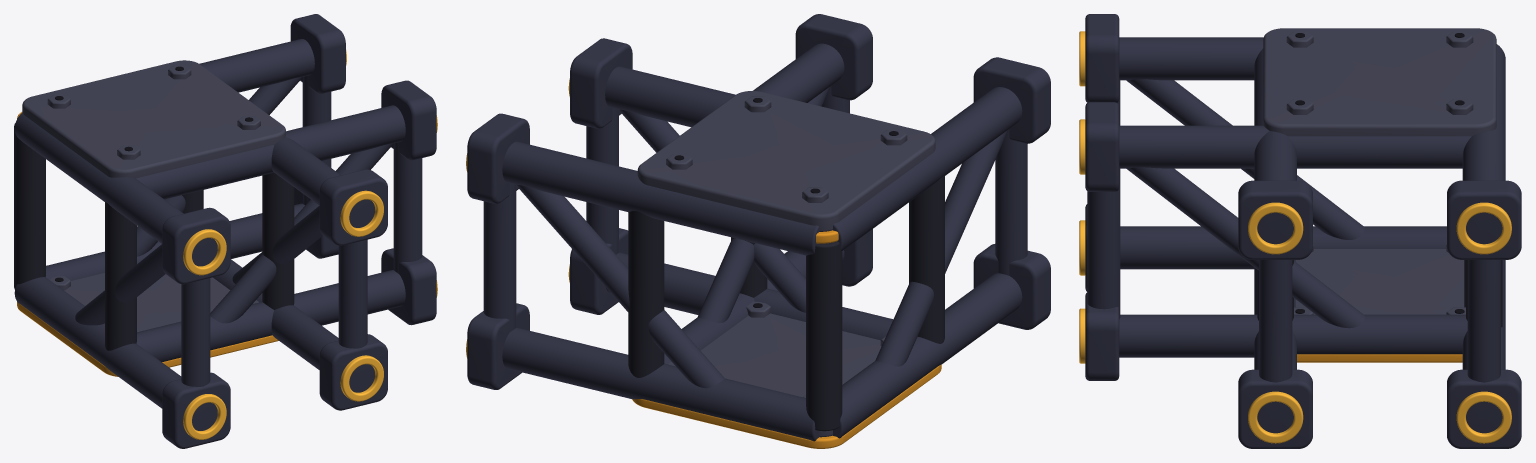
The model's file is TrussCornerConnector.glb.
3 views of the same model, side by side, from view 1: azimuth 30°, elevation 25°; view 2: azimuth 150°, elevation 25°; view 3: azimuth 270°, elevation 25° (orthographic). The views are drawn at different scales.
Parts seen in each view (by area): view 1: CornerMetalPlate (×2), ArmRail00.430.17, ArmRail00.090.17, ArmRail20.09-0.17, ArmRail20.43-0.17, CornerVertical-0.17-0.17, CornerVertical-0.170.17, ArmRail00.43-0.17, GoldArmEnd20.43-0.17Flange, GoldArmEnd20.430.17Flange, CornerVertical0.170.17, GoldArmEnd20.090.17Flange (+21 smaller); view 2: CornerMetalPlate (×2), ArmRail00.09-0.17, ArmRail00.43-0.17, ArmRail20.09-0.17, ArmRail20.43-0.17, CornerVertical-0.17-0.17, ArmDiagonal0-0.17, ArmDiagonal2-0.17, CornerVertical0.17-0.17, ArmRail00.430.17, CornerVertical-0.170.17, ArmEndUpright0-0.17 (+17 smaller); view 3: CornerMetalPlate (×2), ArmRail20.090.17, ArmRail20.430.17, ArmRail20.09-0.17, ArmRail20.43-0.17, ArmDiagonal20.17, GoldArmEnd00.430.17Flange, GoldArmEnd00.43-0.17Flange, GoldArmEnd00.09-0.17Flange, GoldArmEnd00.090.17Flange, ArmEndUpright0-0.17, ArmEndUpright00.17 (+14 smaller).
Part boxes in pixels (x1,y1,x2,y2): CornerMetalPlate (×2): [22, 60, 285, 331]; ArmRail00.430.17: [136, 105, 405, 199]; ArmRail00.090.17: [136, 270, 405, 361]; ArmRail20.09-0.17: [14, 277, 181, 408]; ArmRail20.43-0.17: [14, 112, 183, 243]; CornerVertical-0.17-0.17: [14, 123, 45, 289]; CornerVertical-0.170.17: [105, 202, 136, 350]; ArmRail00.43-0.17: [199, 39, 314, 92]; GoldArmEnd20.43-0.17Flange: [162, 207, 230, 284]; GoldArmEnd20.430.17Flange: [319, 169, 387, 245]; CornerVertical0.170.17: [262, 172, 294, 309]; GoldArmEnd20.090.17Flange: [319, 334, 387, 410]; CornerMetalPlate (×2): [637, 91, 935, 437]; ArmRail00.09-0.17: [502, 328, 819, 441]; ArmRail00.43-0.17: [502, 141, 819, 255]; ArmRail20.09-0.17: [832, 273, 1022, 438]; ArmRail20.43-0.17: [832, 87, 1022, 250]; CornerVertical-0.17-0.17: [806, 241, 842, 431]; ArmDiagonal0-0.17: [516, 184, 724, 388]; ArmDiagonal2-0.17: [875, 129, 1008, 366]; CornerVertical0.17-0.17: [628, 211, 664, 377]; ArmRail00.430.17: [605, 66, 735, 127]; CornerVertical-0.170.17: [909, 175, 944, 343]; ArmEndUpright0-0.17: [483, 183, 516, 331]; CornerMetalPlate (×2): [1263, 28, 1496, 314]; ArmRail20.090.17: [1119, 314, 1467, 357]; ArmRail20.430.17: [1119, 125, 1471, 168]; ArmRail20.09-0.17: [1120, 226, 1446, 269]; ArmRail20.43-0.17: [1119, 37, 1263, 80]; ArmDiagonal20.17: [1126, 167, 1364, 328]; GoldArmEnd00.430.17Flange: [1238, 180, 1312, 259]; GoldArmEnd00.43-0.17Flange: [1447, 180, 1521, 259]; GoldArmEnd00.09-0.17Flange: [1447, 369, 1521, 448]; GoldArmEnd00.090.17Flange: [1238, 369, 1312, 448]; ArmEndUpright0-0.17: [1467, 259, 1500, 382]; ArmEndUpright00.17: [1259, 259, 1292, 382].
Bounding box in the file's own units: 0.721 × 0.463 × 0.721.
Materials: 7 (7 with a texture image).
